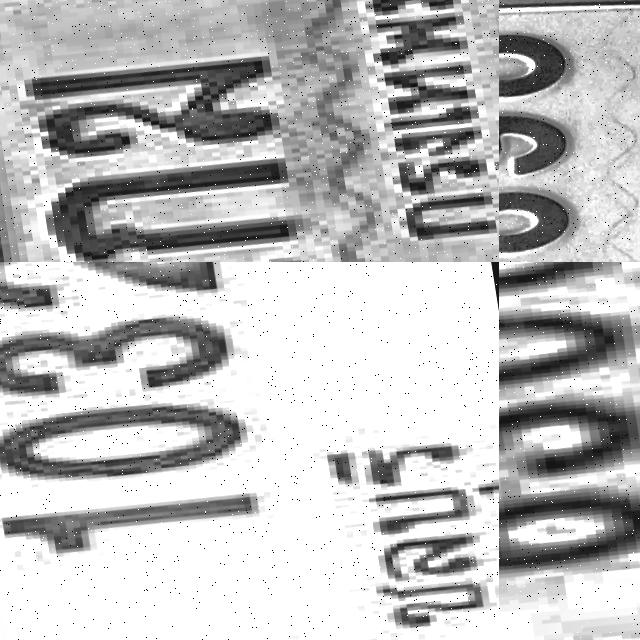license-plate: (0, 262, 499, 640), (0, 0, 499, 262), (499, 262, 640, 640), (499, 0, 640, 262)
